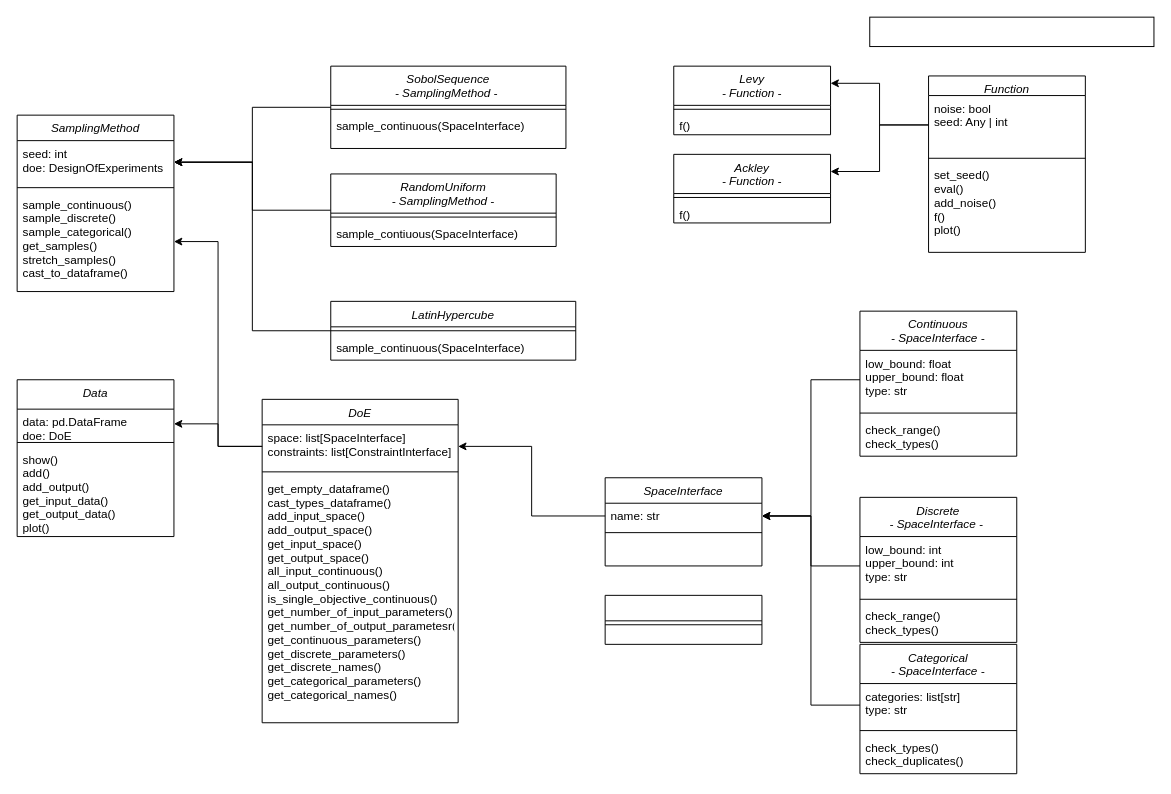
The diagram is 1171 pixels wide and 794 high, and some of its shapes have lost their labels. Each missing label, with the centre of its shape:
"ConstraintInterface" belongs at (683,619).
"from_data_to_numpy_array_benchmarkfunction()" belongs at (1011,31).
